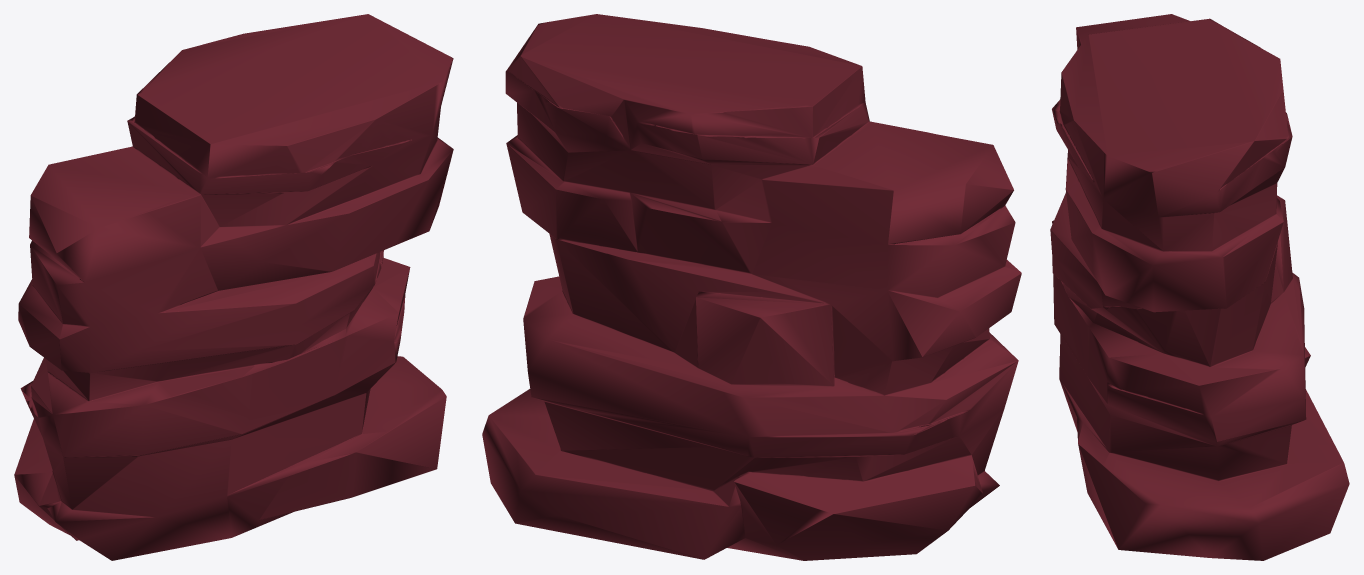
The model's file is Mesh_Wall_a.fbx.
3 views of the same model, side by side, from view 1: azimuth 30°, elevation 25°; view 2: azimuth 150°, elevation 25°; view 3: azimuth 270°, elevation 25° (orthographic). The views are drawn at different scales.
Visible parts, largest first — view 1: wall_a; view 2: wall_a; view 3: wall_a.
Part boxes in pixels (box(x1,y1,x2,y2)): wall_a: box(14, 14, 453, 560); wall_a: box(482, 14, 1021, 560); wall_a: box(1050, 14, 1349, 560).
Size of the model in its own units: 13.09 by 11.86 by 7.88.
